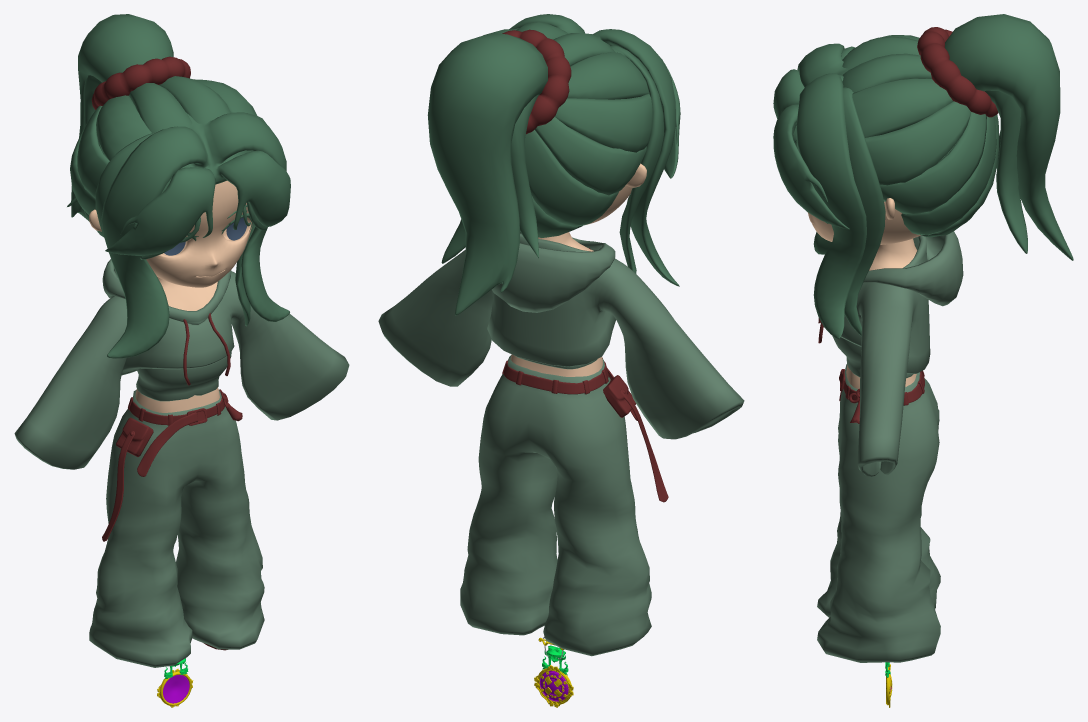
The model's file is Melee_Anim_Base_03.fbx.
The picture shows the model from 3 angles, left to right: view 1: azimuth 30°, elevation 25°; view 2: azimuth 150°, elevation 25°; view 3: azimuth 270°, elevation 25°; orthographic projection. The views are drawn at different scales.
Parts seen in each view (by area): view 1: Hair, Pants, Shirt, Head, TankTop, HairTie, Neck, Torso, Belt, BeltStrap, Pouch, PouchStrap (+1 smaller); view 2: Hair, Pants, Shirt, HairTie, Belt, Heavens_Gate_Rig_01:polySurface1092, Torso, Pouch, PouchStrap; view 3: Hair, Pants, Shirt, HairTie, Head, Neck, TankTop, Belt.
Part boxes in pixels (x1,y1,x2,y2): Hair: [67, 14, 290, 358]; Pants: [89, 390, 264, 667]; Shirt: [14, 259, 349, 469]; Head: [146, 180, 252, 287]; TankTop: [136, 351, 231, 401]; HairTie: [91, 56, 190, 109]; Neck: [157, 277, 217, 310]; Torso: [135, 387, 219, 412]; Belt: [128, 389, 224, 425]; BeltStrap: [137, 412, 197, 476]; Pouch: [116, 417, 153, 456]; PouchStrap: [102, 430, 134, 541]; Hair: [427, 14, 680, 315]; Pants: [460, 355, 651, 656]; Shirt: [378, 231, 744, 439]; HairTie: [502, 29, 571, 134]; Belt: [502, 358, 608, 394]; Heavens_Gate_Rig_01:polySurface1092: [534, 637, 573, 707]; Torso: [510, 354, 602, 376]; Pouch: [603, 375, 635, 417]; PouchStrap: [620, 389, 668, 502]; Hair: [773, 14, 1073, 339]; Pants: [817, 364, 940, 662]; Shirt: [841, 231, 963, 477]; HairTie: [917, 27, 998, 117]; Head: [807, 201, 920, 244]; Neck: [869, 238, 917, 270]; TankTop: [832, 336, 913, 378]; Belt: [840, 369, 924, 405].
Bounding box in the file's own units: 51.71 × 97.86 × 38.59.
